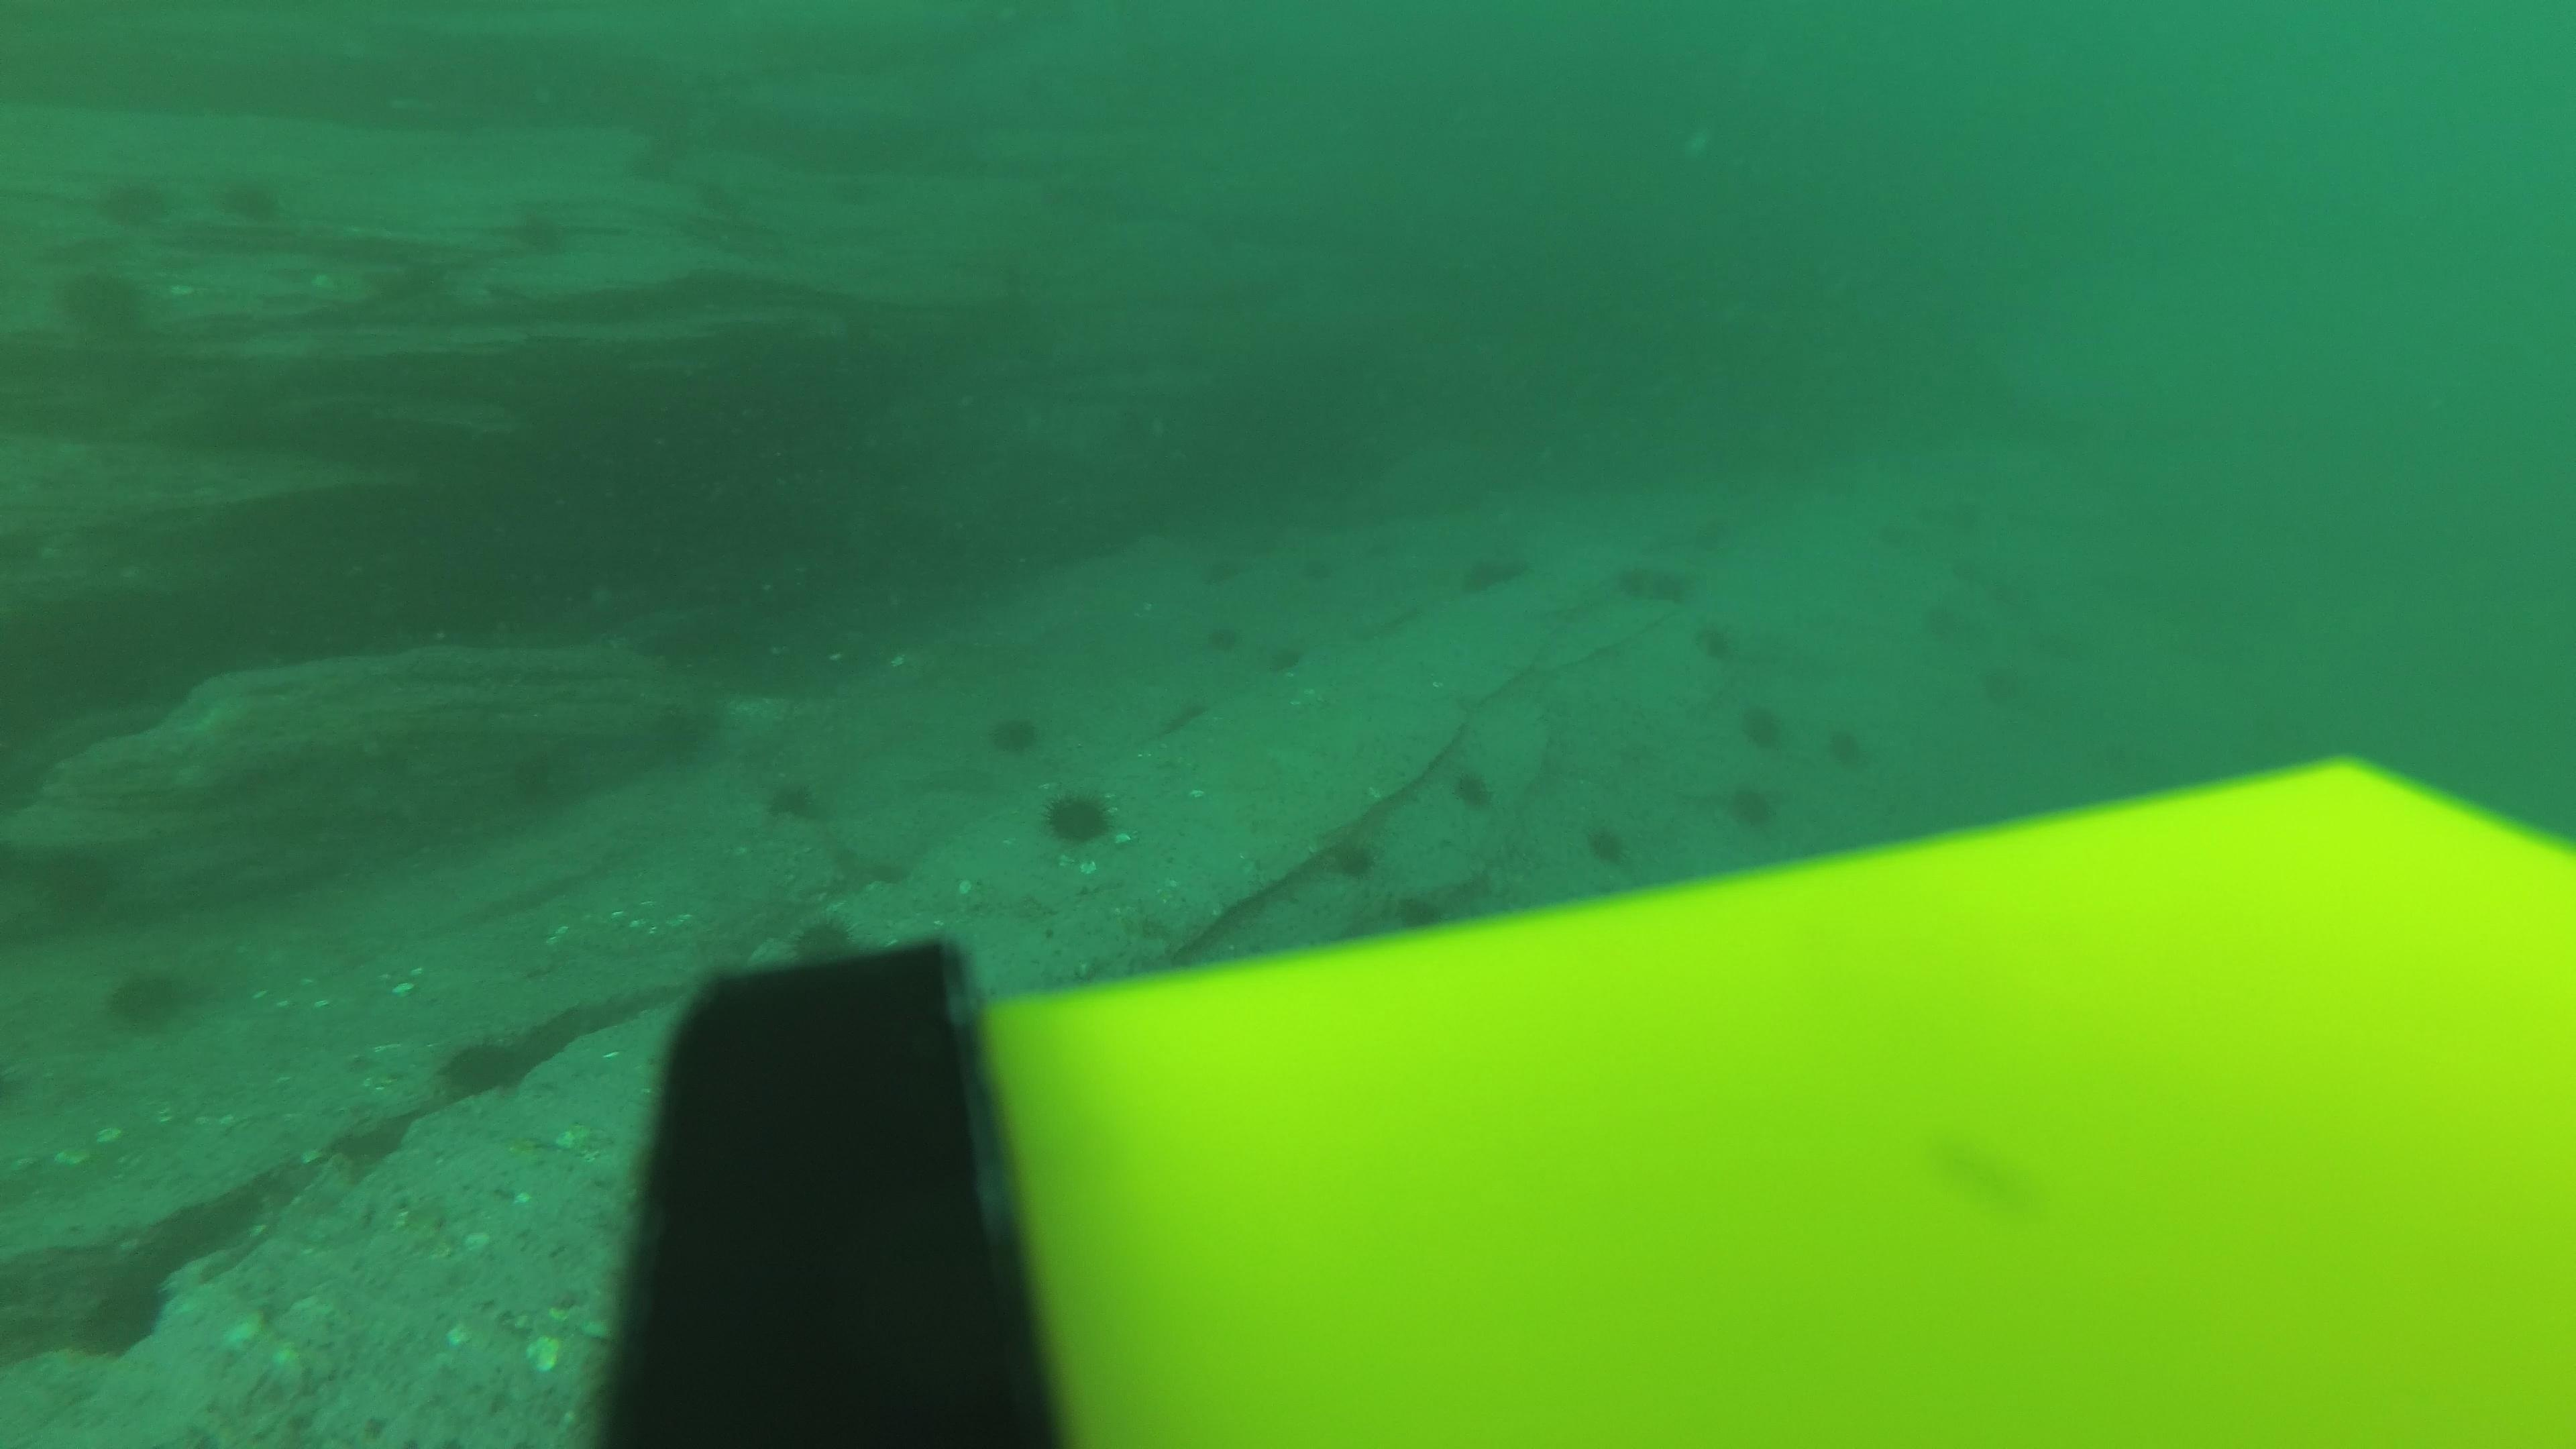echinus: (50, 260, 157, 352), (97, 955, 205, 1040), (433, 1026, 540, 1106), (640, 697, 724, 770), (1039, 782, 1120, 853), (90, 166, 175, 234), (499, 198, 579, 262), (214, 168, 292, 230), (1454, 541, 1534, 600), (775, 902, 853, 961), (1316, 823, 1385, 885), (759, 770, 828, 828), (1260, 639, 1320, 695), (1194, 536, 1254, 593), (1290, 538, 1350, 594), (1684, 619, 1744, 676), (985, 704, 1044, 761), (1723, 778, 1782, 835), (1191, 614, 1251, 669), (1964, 660, 2024, 715), (1815, 717, 1874, 771), (1580, 816, 1635, 870), (1737, 699, 1787, 754), (1449, 763, 1499, 816), (1649, 566, 1688, 609), (1693, 515, 1732, 557), (1612, 550, 1651, 591), (1879, 506, 1914, 547), (1932, 600, 1966, 640), (1943, 545, 1976, 586), (1948, 492, 1982, 533)
starfish: (322, 1106, 416, 1175)
